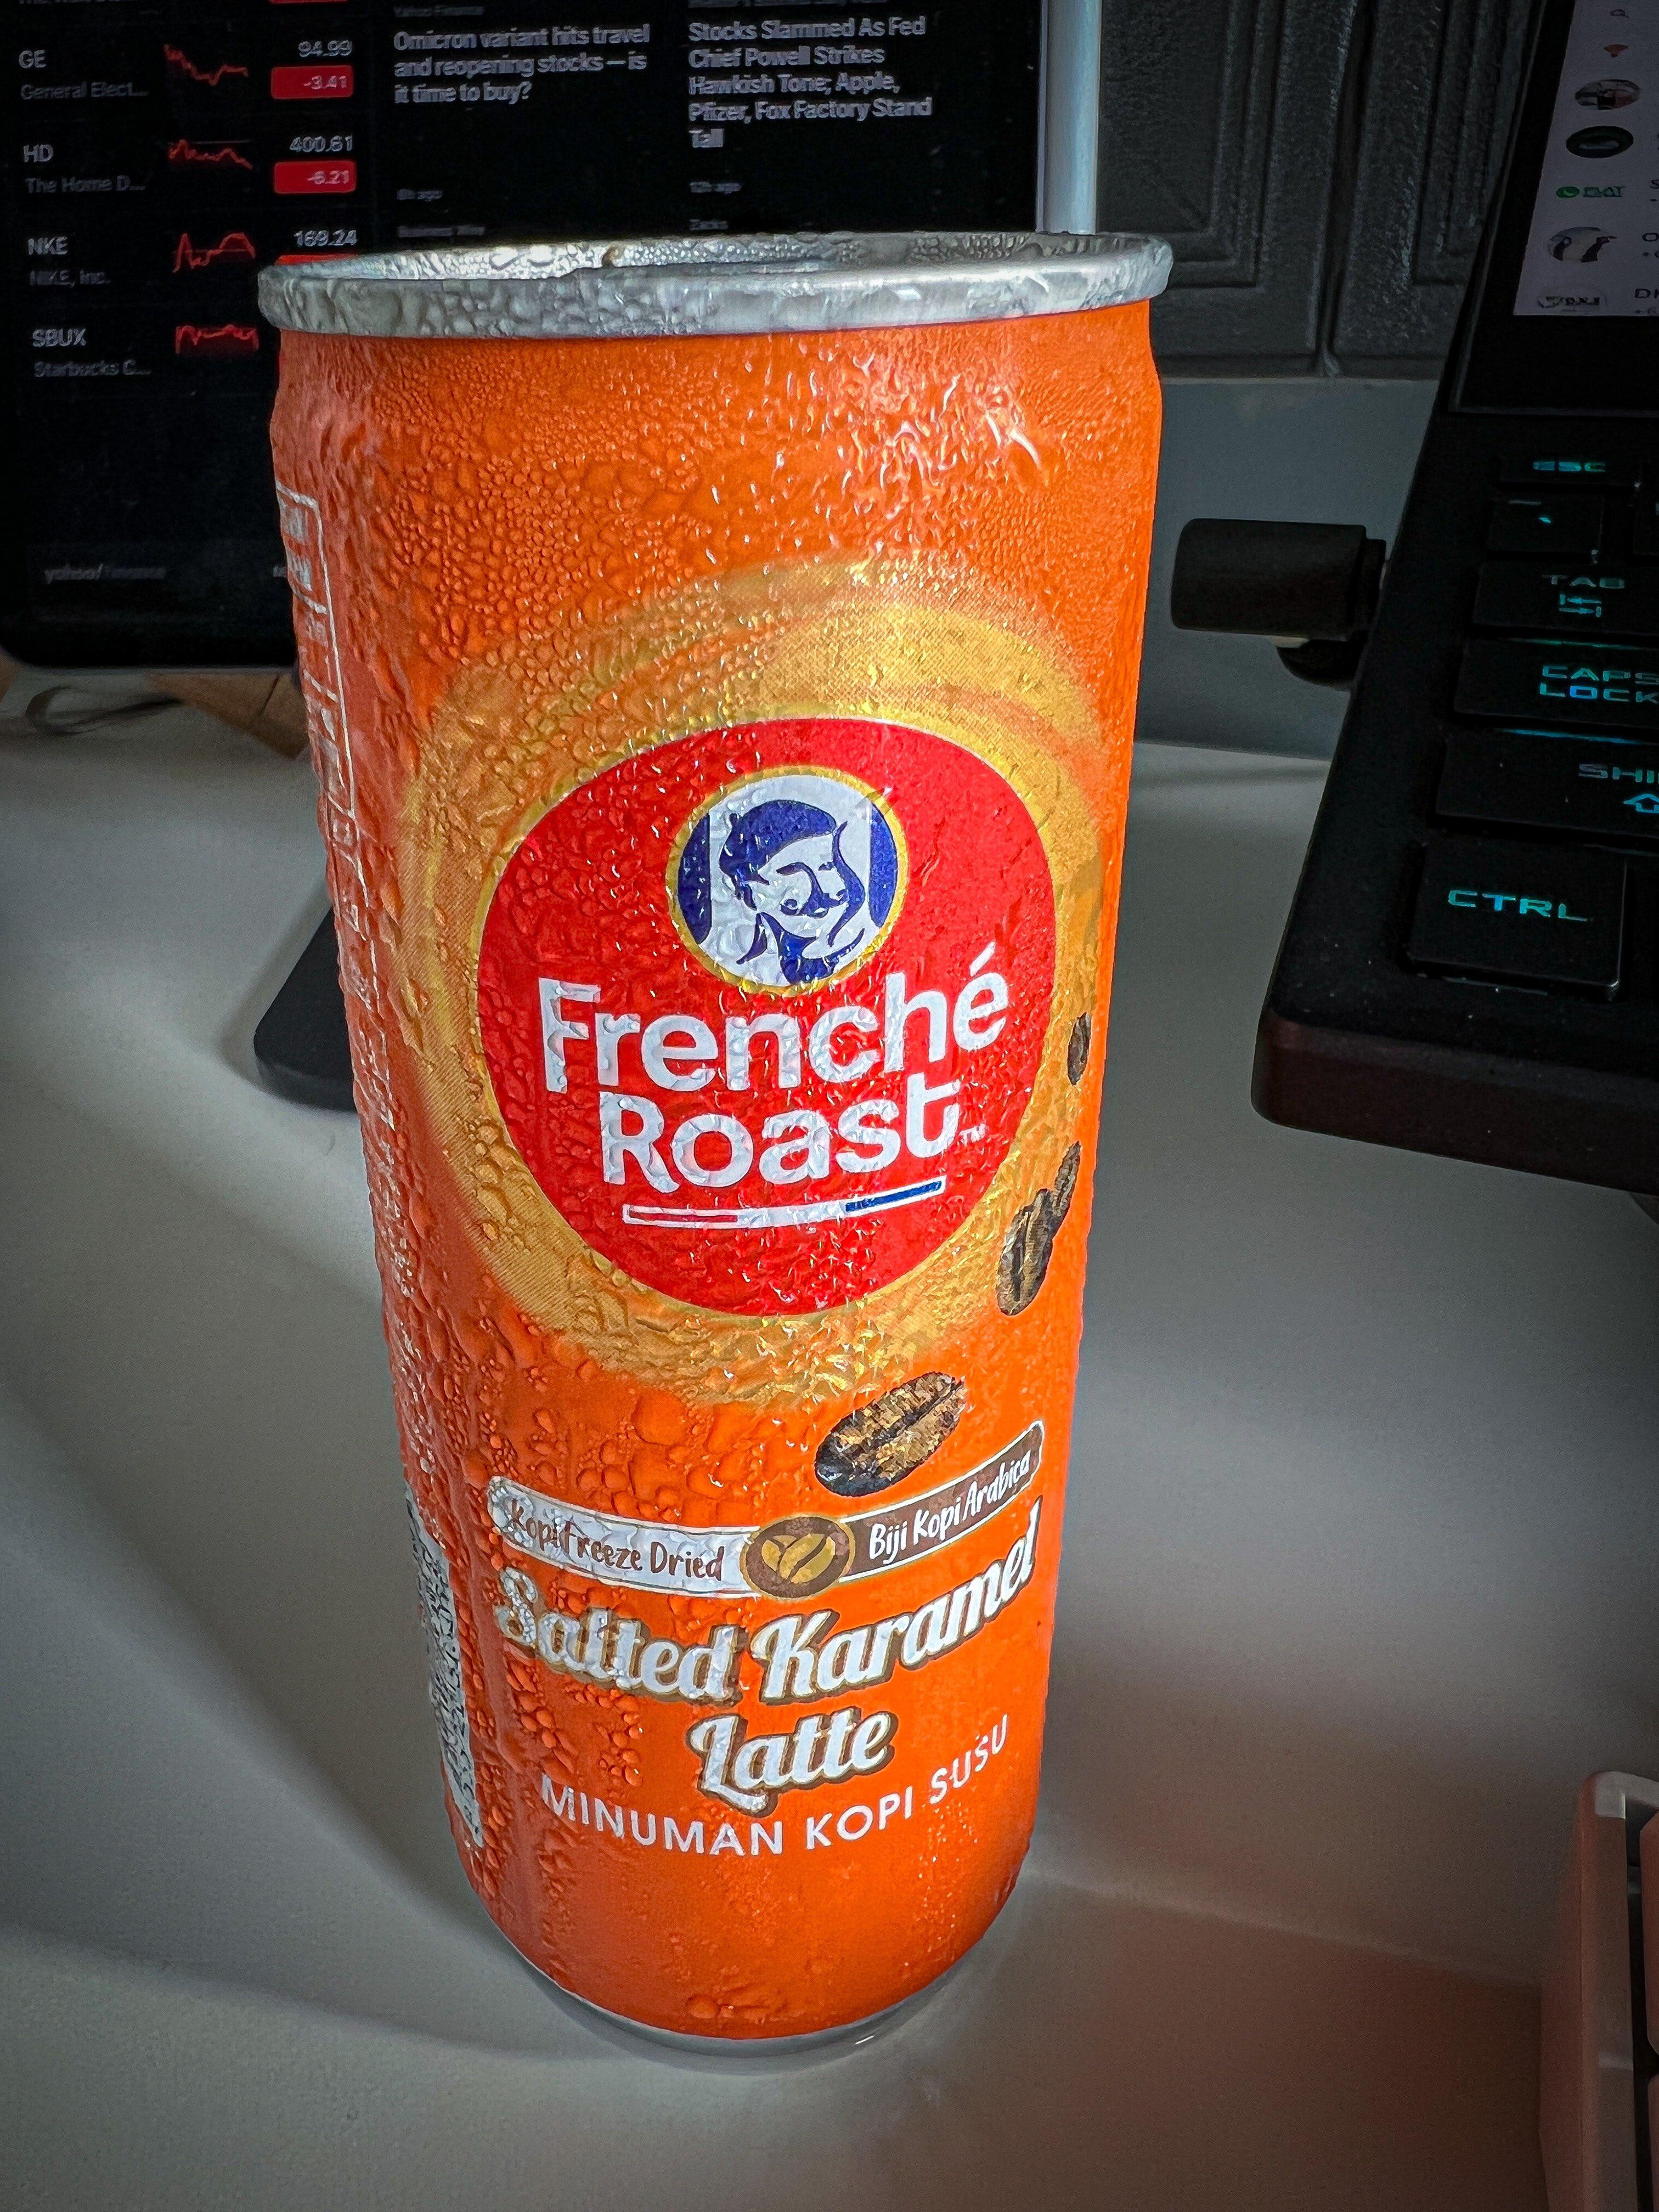metal: (230, 209, 1180, 2066)
